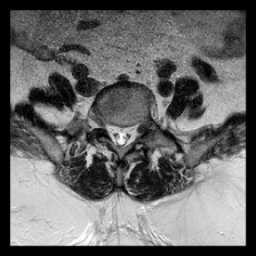CCS_normal: (117, 116, 125, 155)
LFS_normal: (134, 112, 142, 145)
LLS_normal: (125, 116, 134, 151)
RFS_normal: (99, 109, 109, 140)
RLS_normal: (109, 115, 117, 153)
